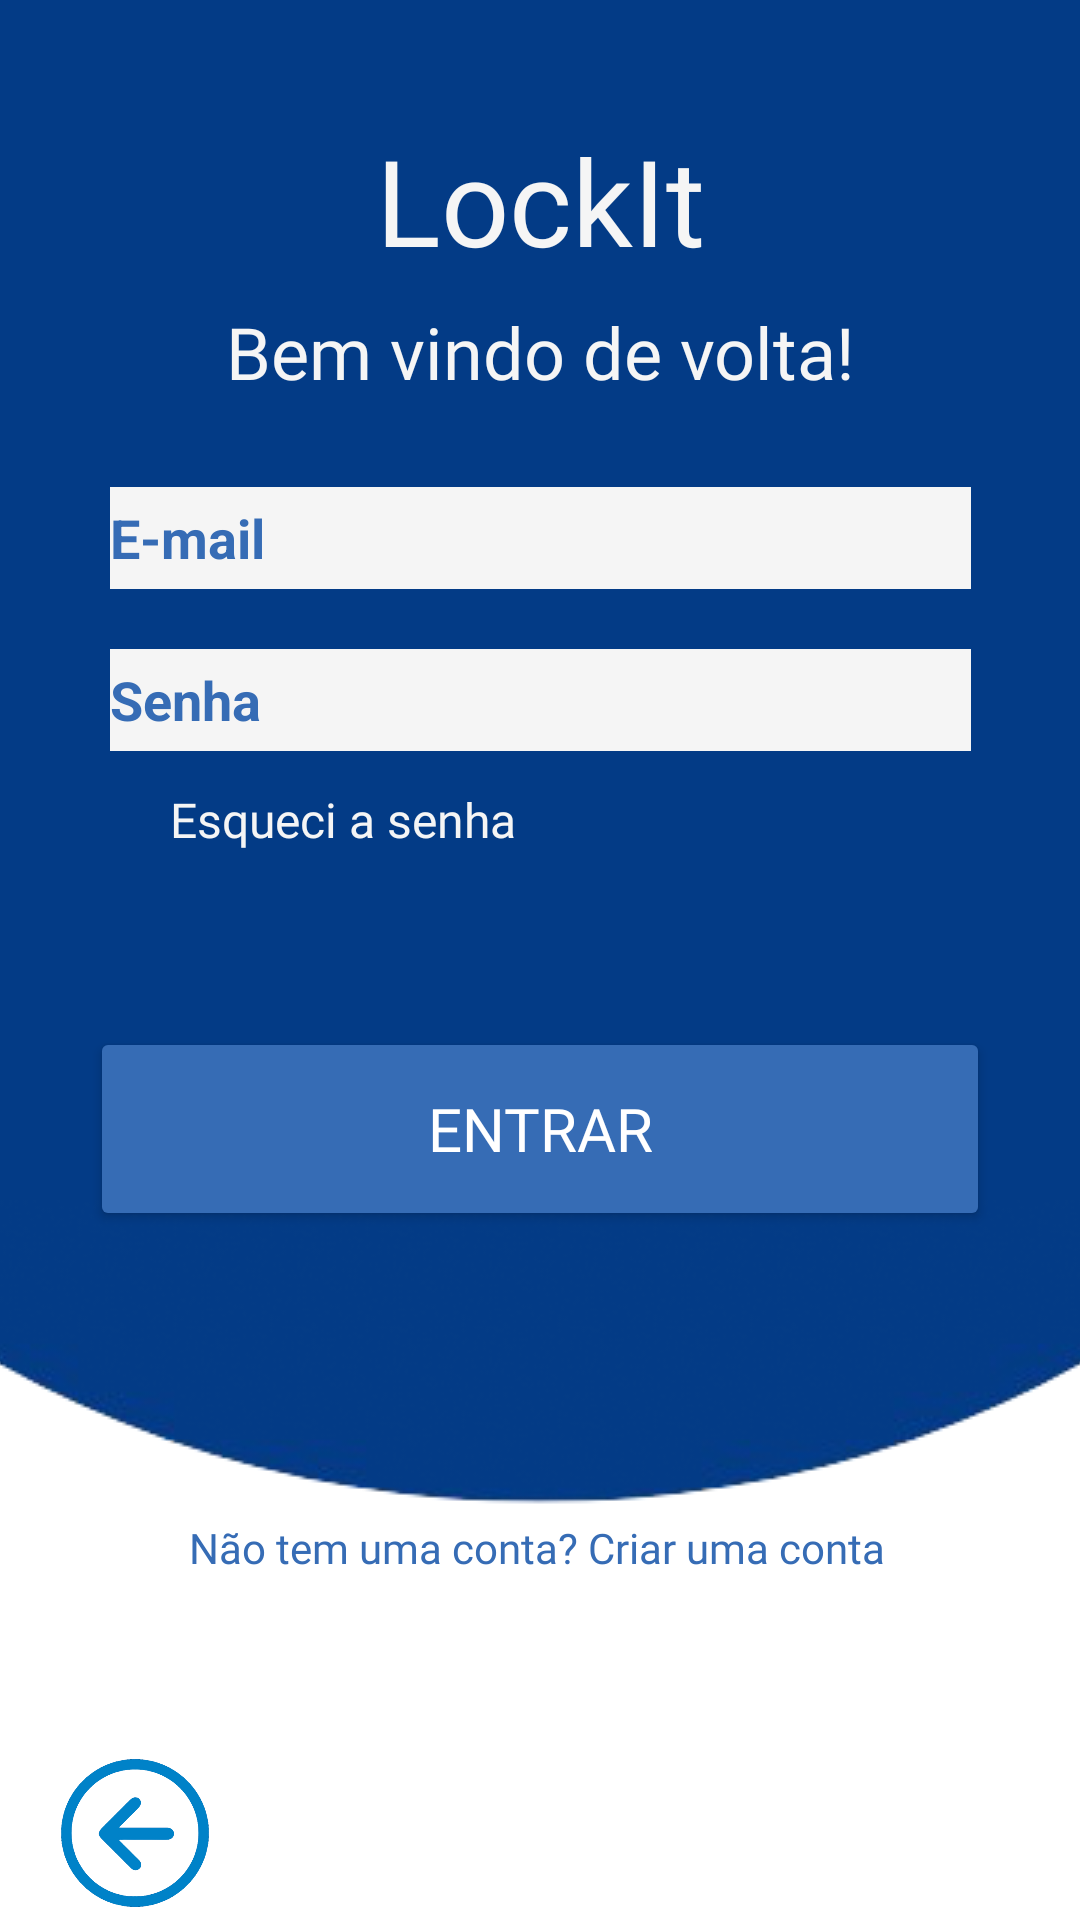

Screen size 1080 × 1920. Icon name, then its center in pixels as (x,y):
seta voltar: (135,1833)
